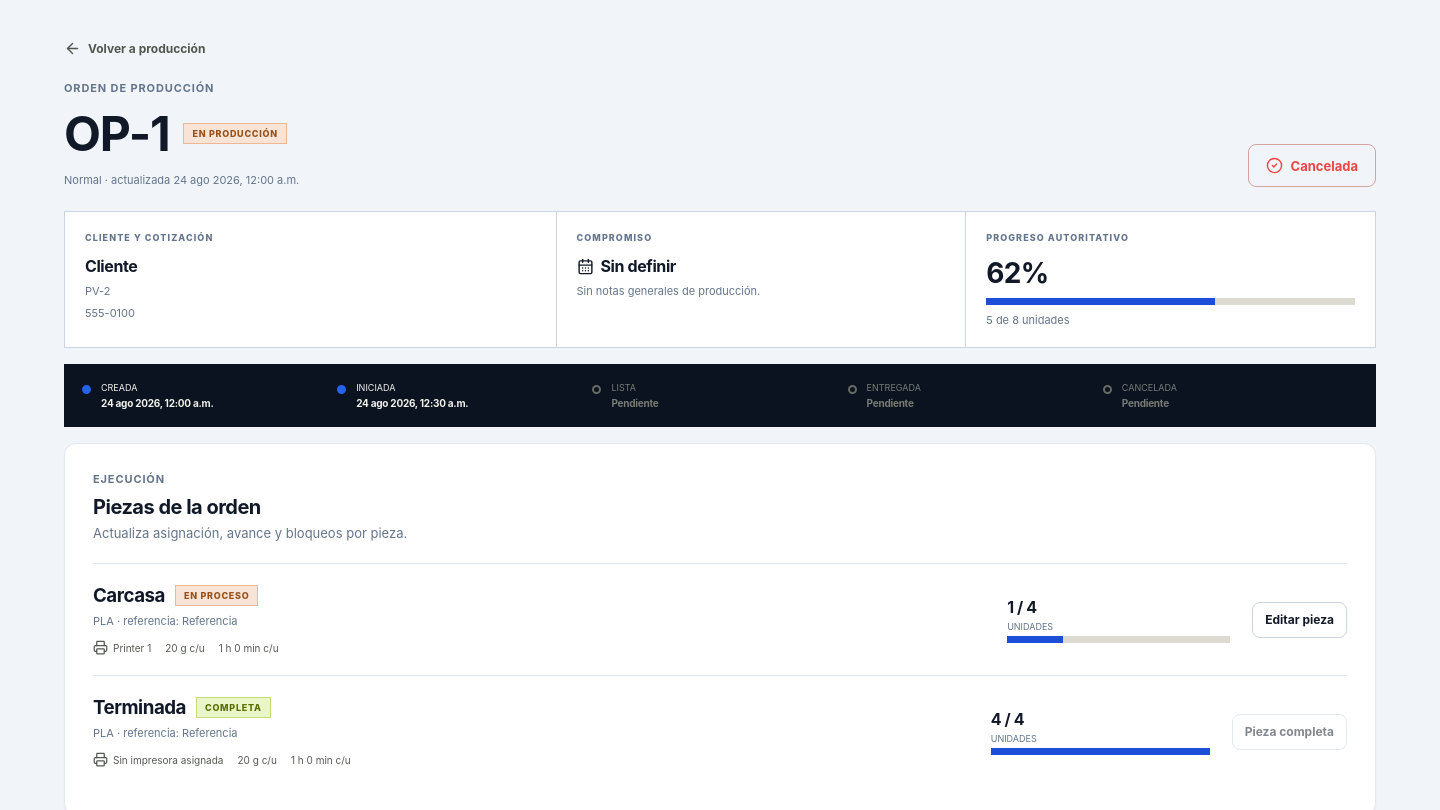
Scenario: editor de piezas de producción › bloquea el cambio de impresora en proceso y deja las piezas completas en solo lectura
Expected: the button "Pieza completa" is disabled, [1232,714,1347,750]
Click the button "Editar pieza".
click(1300, 620)  # box [1252,602,1347,638]
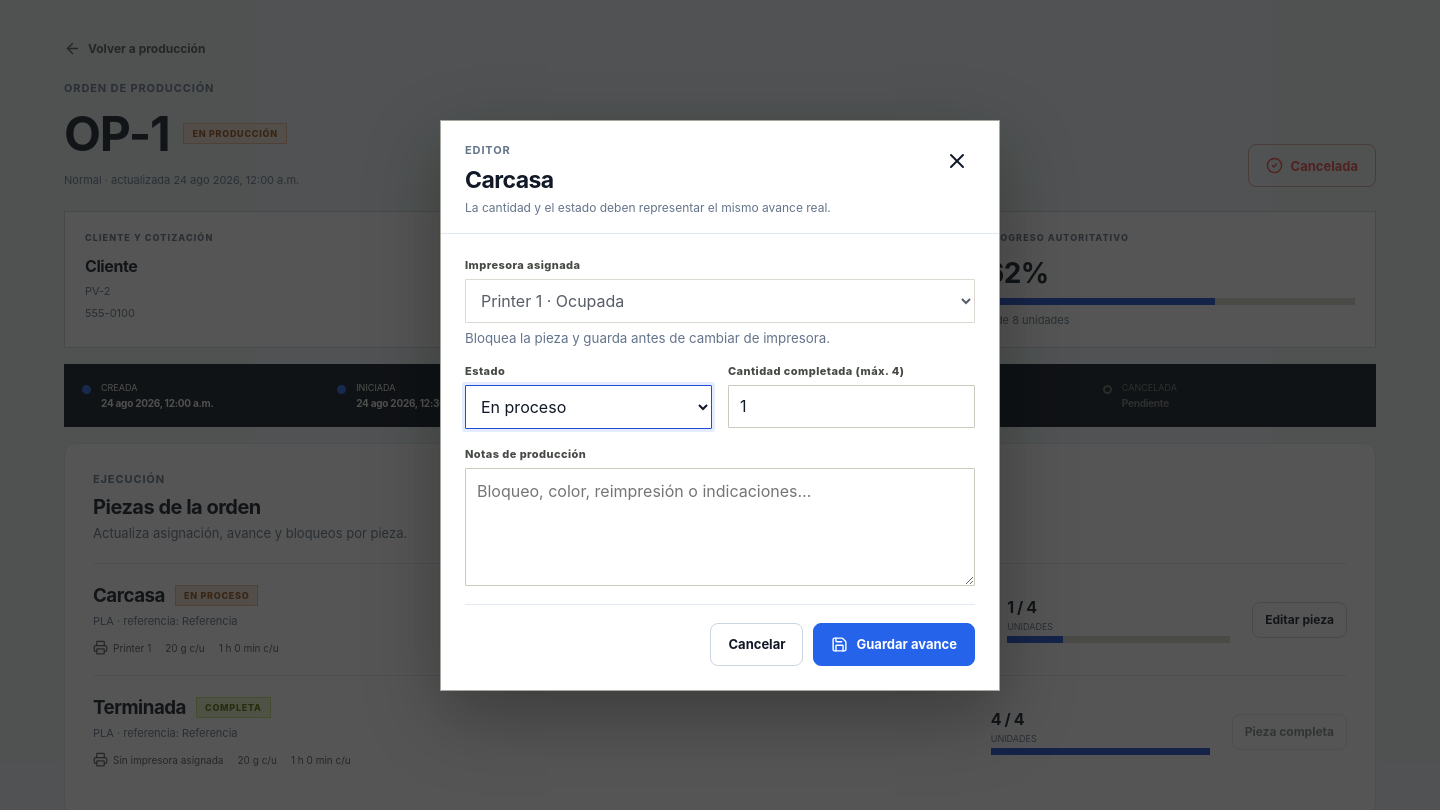
Now the dropdown labelled "Impresora asignada" is disabled, box [465,278,975,322]
Now the text "Bloquea la pieza y guarda antes de cambiar de impresora." is shown, box [465,330,830,346]
